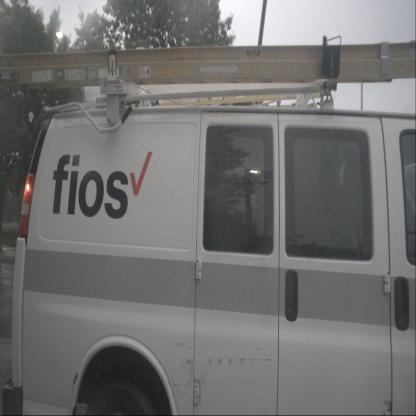vehicle-car: (10, 97, 416, 416)
